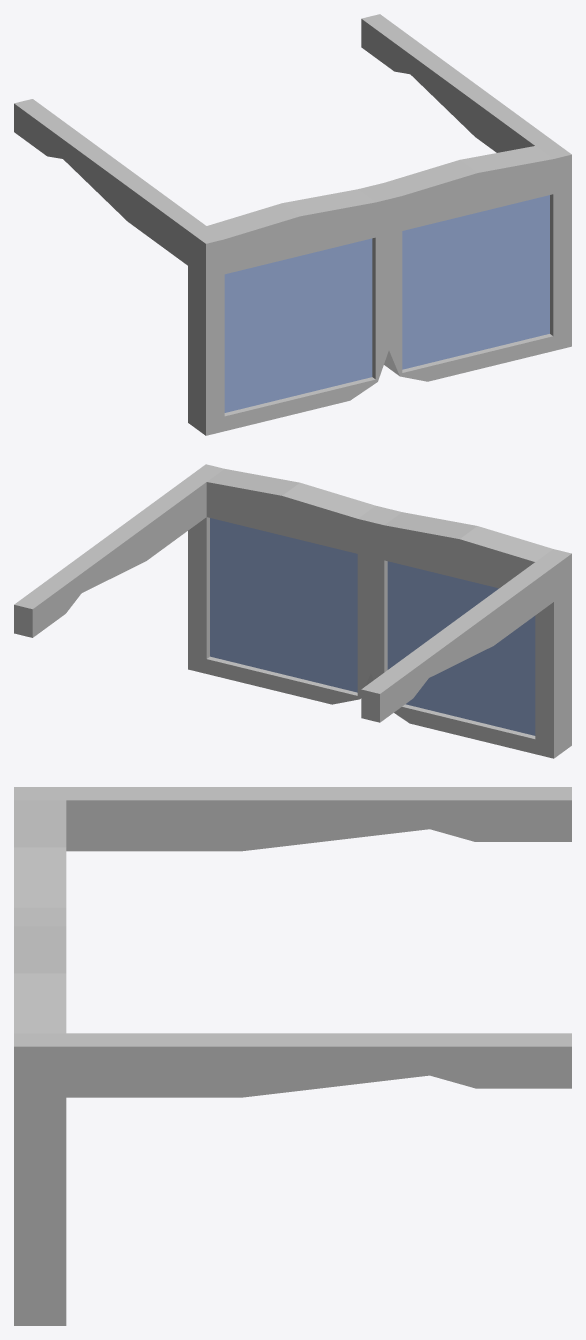
Rendered from SM_Glasses_01_C.gltf.
The picture shows the model from 3 angles, top to bottom: view 1: azimuth 30°, elevation 25°; view 2: azimuth 150°, elevation 25°; view 3: azimuth 270°, elevation 25°; orthographic projection. The views are drawn at different scales.
Visible parts, largest first — view 1: Glasses_01_C; view 2: Glasses_01_C; view 3: Glasses_01_C.
Part boxes in pixels (box(x1,y1,x2,y2)): Glasses_01_C: box(14, 14, 571, 435); Glasses_01_C: box(14, 464, 571, 758); Glasses_01_C: box(14, 787, 571, 1325).
Bounding box in the file's own units: 0.1746 × 0.0896 × 0.1586.
